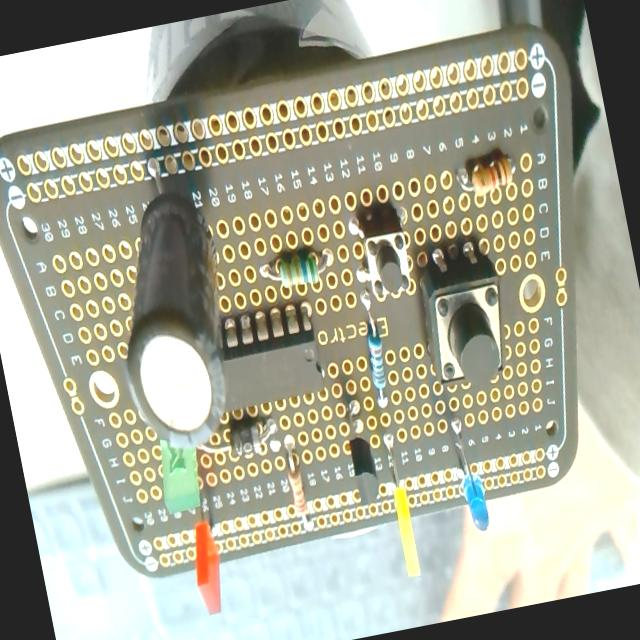Electrolytic capacitor: (86, 147, 256, 456)
IC: (180, 310, 332, 426)
diode: (226, 414, 278, 460)
led: (378, 431, 424, 581), (448, 416, 493, 536), (184, 517, 232, 618), (153, 434, 207, 516)
resistor: (354, 288, 396, 412), (257, 242, 338, 294), (454, 152, 520, 200), (282, 444, 314, 536)
switch: (412, 249, 518, 393), (350, 208, 418, 304)
transistor: (339, 402, 384, 508)
